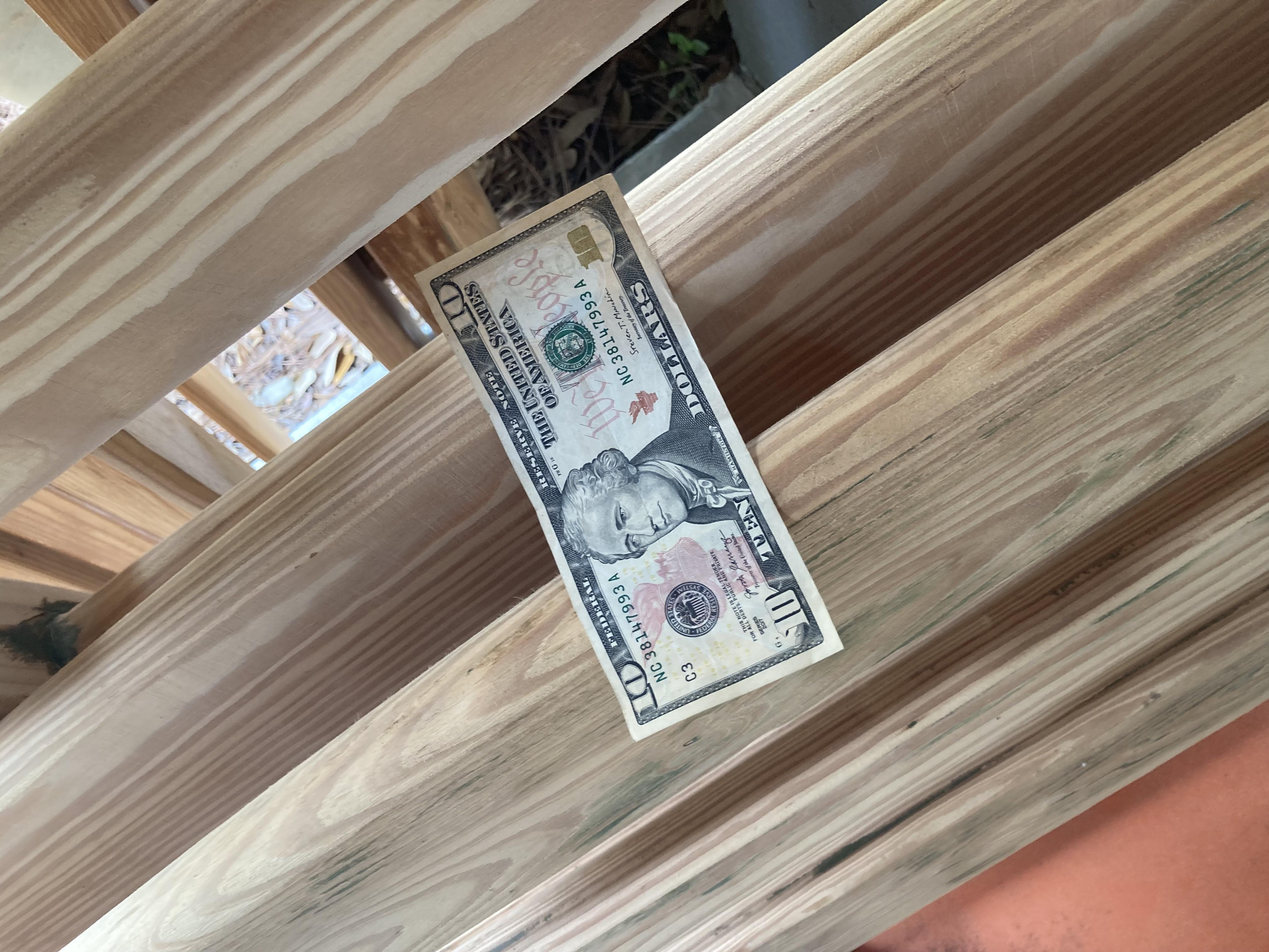ten-front: (282, 310, 1043, 635)
